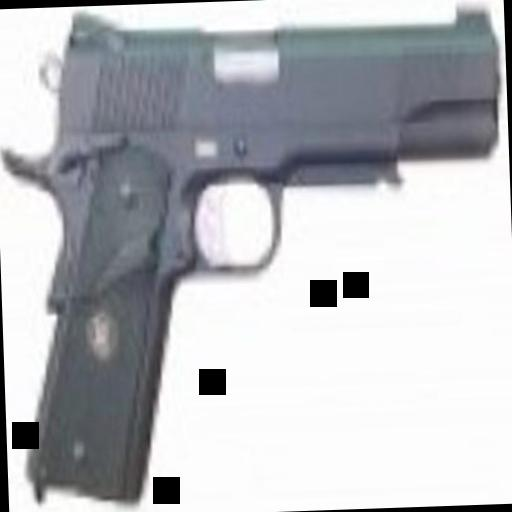Handgun: (6, 0, 509, 501)
